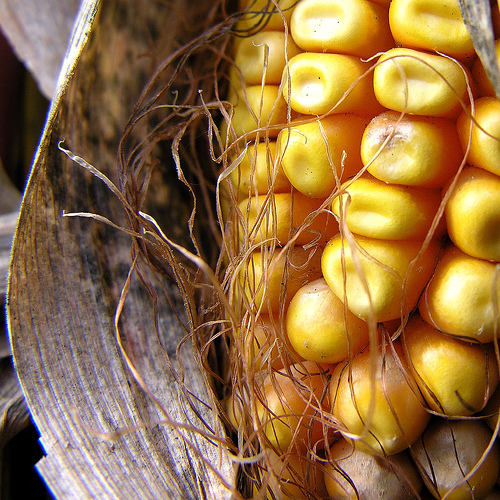corn: (217, 0, 498, 496)
